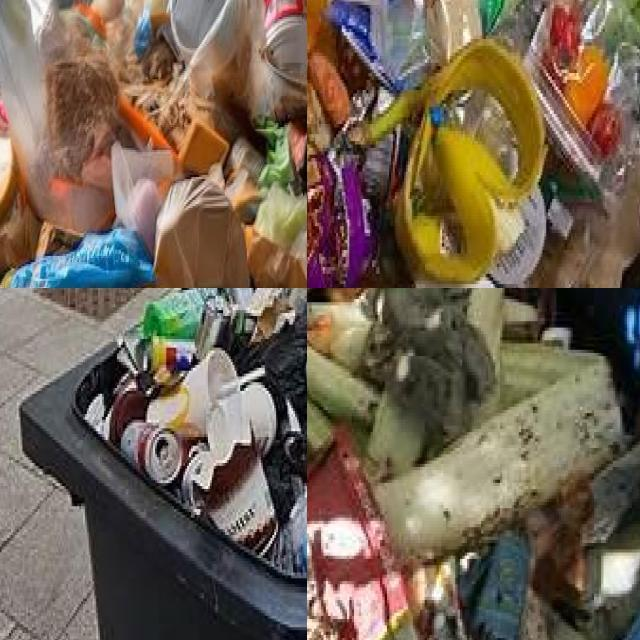Disposable: (146, 349, 238, 438), (489, 186, 546, 286), (208, 383, 276, 465), (362, 132, 395, 199)
Garbage: (307, 288, 640, 640), (307, 0, 640, 288), (79, 288, 307, 575)
Plastic_Bag: (526, 0, 640, 191), (9, 226, 153, 288), (259, 307, 307, 480), (111, 142, 174, 255), (372, 0, 435, 80)
Plastic_Container: (265, 0, 307, 84)
Plastic_Straw: (238, 367, 265, 387)
Plastic_bottle: (143, 288, 218, 340), (279, 493, 307, 573)
Plastic_wraper: (307, 153, 378, 288), (326, 0, 402, 94)
can: (121, 420, 183, 484)
